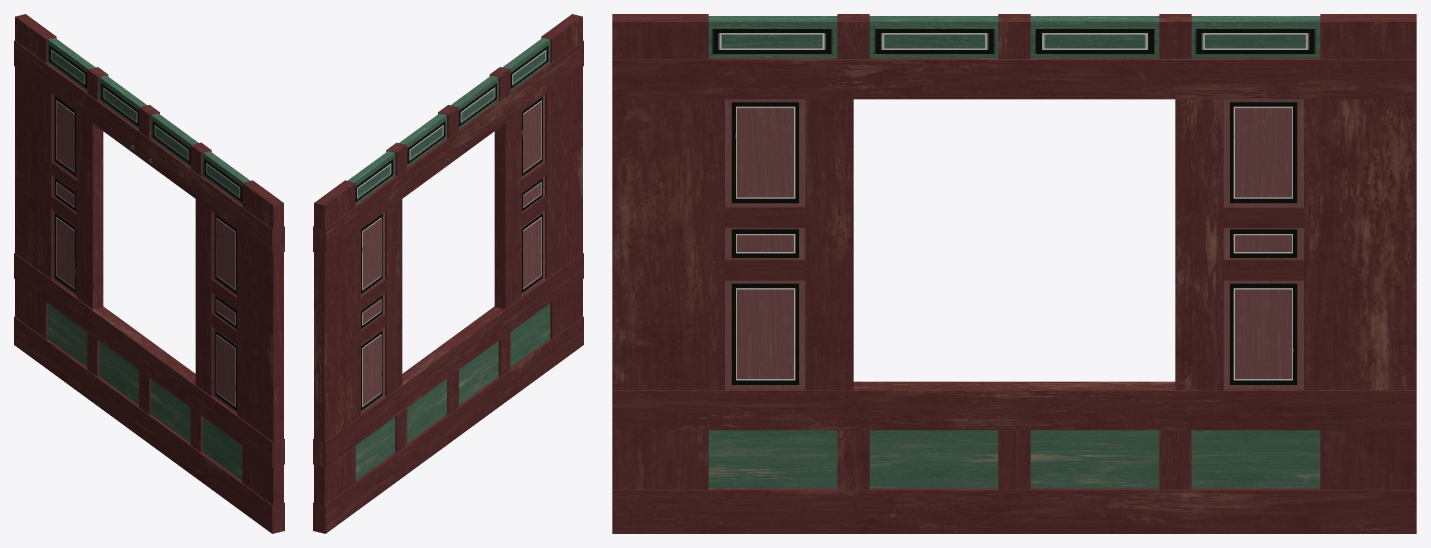
Rendered from SM_Wall04d.fbx.
The picture shows the model from 3 angles, left to right: view 1: azimuth 30°, elevation 25°; view 2: azimuth 150°, elevation 25°; view 3: azimuth 270°, elevation 25°; orthographic projection. The views are drawn at different scales.
Visible parts, largest first — view 1: SM_Wall04d; view 2: SM_Wall04d; view 3: SM_Wall04d.
Boxes of the visible parts, box(x1,y1,x2,y2) form: SM_Wall04d: box(14, 14, 284, 533); SM_Wall04d: box(313, 14, 583, 533); SM_Wall04d: box(612, 14, 1416, 533).
Size of the model in its own units: 9.15 by 250 by 175.
3 materials, 3 textured.
